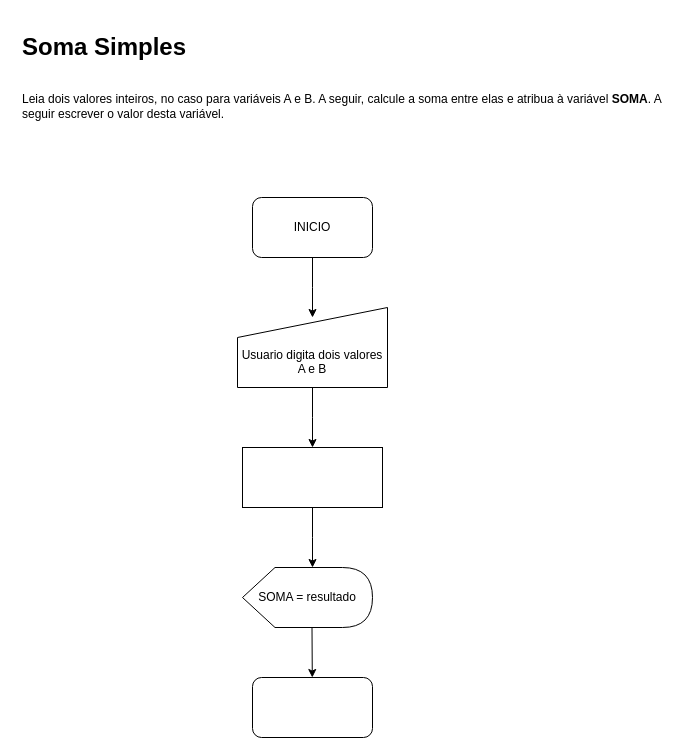
Some shapes in this 684 by 755 pixel diagram are drawn without their labels. The centre of each missing label's shape, as x and y in pixels:
"FIM" belongs at (x=312, y=707).
"SOMA = A+B" belongs at (x=312, y=477).
